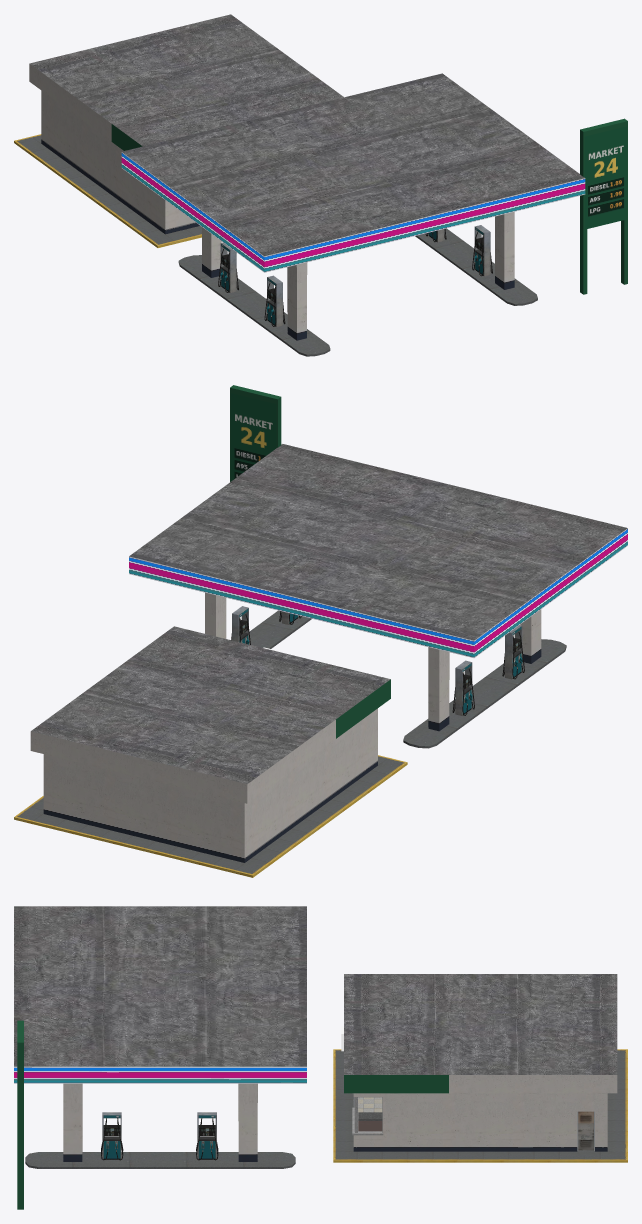
The model's file is shop-petrol.glb.
3 views of the same model, one above another, from view 1: azimuth 30°, elevation 25°; view 2: azimuth 150°, elevation 25°; view 3: azimuth 270°, elevation 25° (orthographic). The views are drawn at different scales.
Visible parts, largest first — view 1: Station; view 2: Station; view 3: Station.
Part boxes in pixels (<box>): Station: <box>14,14,627,356</box>; Station: <box>14,385,627,877</box>; Station: <box>14,906,627,1209</box>.
Size of the model in its own units: 24.66 by 10.52 by 35.05.
33 materials, 30 textured.
